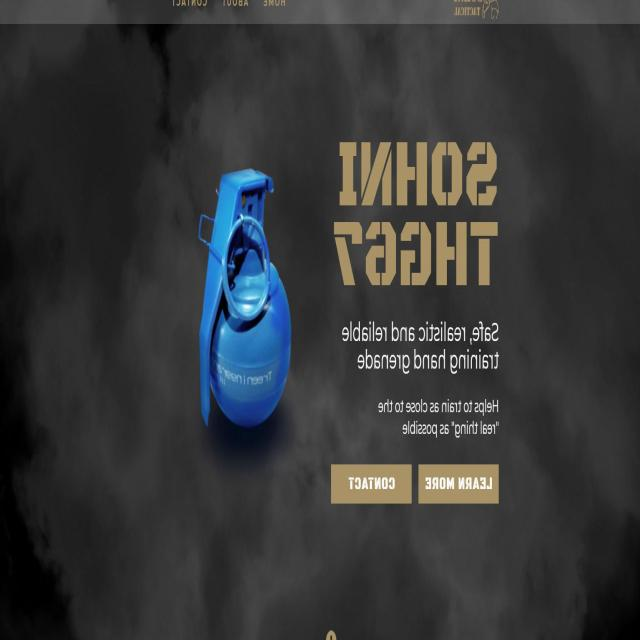grenade: (199, 166, 292, 432), (452, 1, 501, 22)
